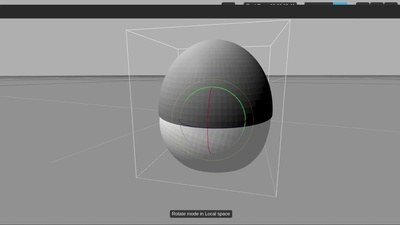mira_robot: (158, 39, 274, 173)
